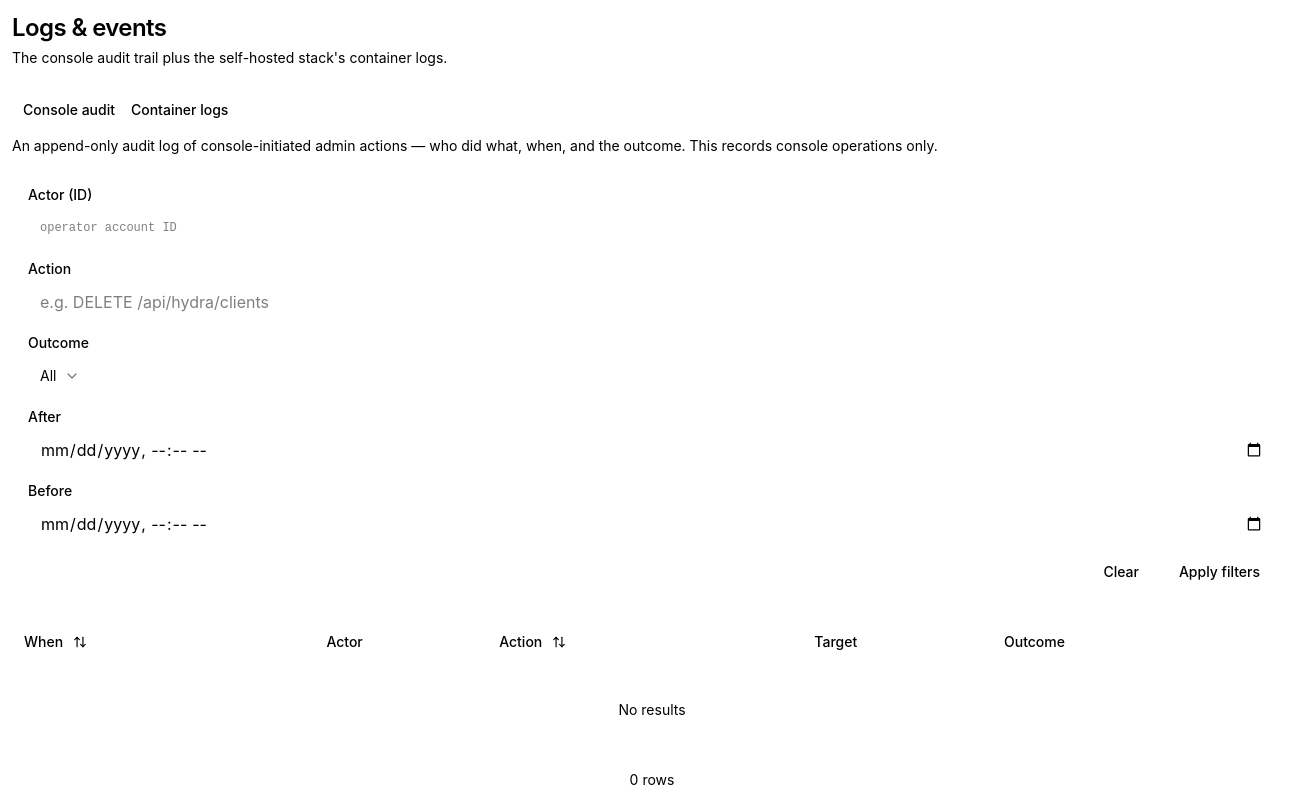
Scenario: Logs & events page (ACT-04 + OBS-04) › Container logs ON + running: renders the Loki lines
The width and height of the screenshot is (1292, 803).
Click the tab "Container logs".
click(180, 110)  # box [123, 96, 236, 124]
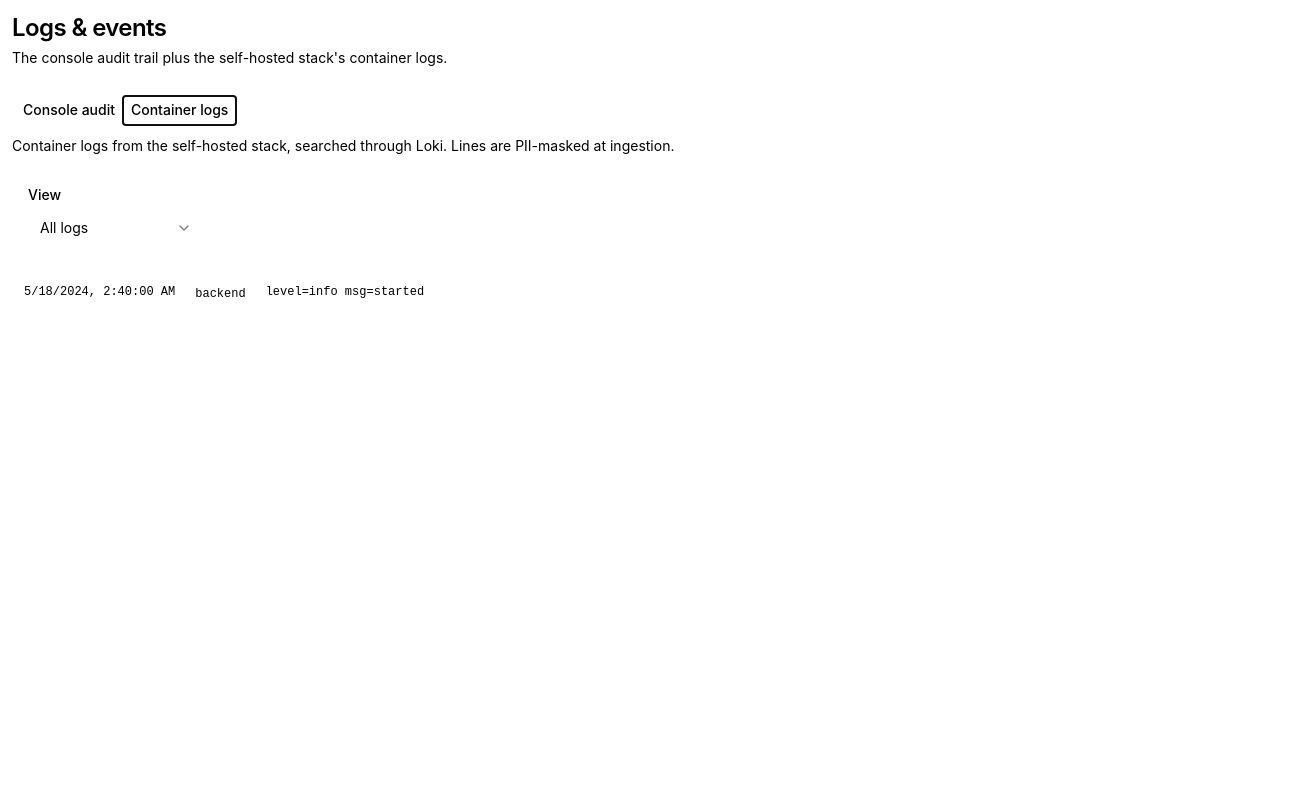
Result: the text "level=info msg=started" is shown at [266, 284, 424, 304]
